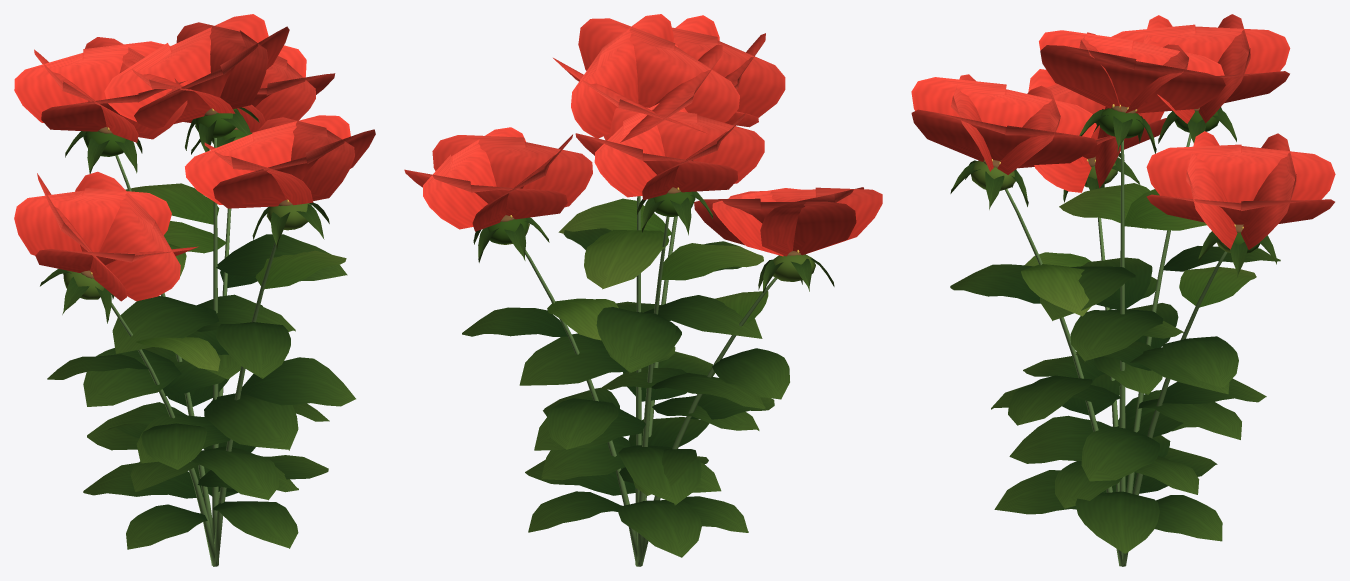
The model's file is poppy-09-lod.glb.
3 renders of one model, left to right at view 1: azimuth 30°, elevation 25°; view 2: azimuth 150°, elevation 25°; view 3: azimuth 270°, elevation 25°, orthographic.
Visible parts, largest first — view 1: poppy_stage_09_poppy_petal.017, poppy_stage_09_leaf_veins.017, poppy_stage_09_young_leaf.017, poppy_stage_09_stem_fibres.017; view 2: poppy_stage_09_poppy_petal.017, poppy_stage_09_leaf_veins.017, poppy_stage_09_young_leaf.017, poppy_stage_09_stem_fibres.017; view 3: poppy_stage_09_poppy_petal.017, poppy_stage_09_leaf_veins.017, poppy_stage_09_young_leaf.017, poppy_stage_09_stem_fibres.017.
Boxes of the visible parts, x1,y1,x2,y2 form: poppy_stage_09_poppy_petal.017: (14, 14, 375, 301); poppy_stage_09_leaf_veins.017: (40, 107, 355, 549); poppy_stage_09_young_leaf.017: (63, 108, 346, 371); poppy_stage_09_stem_fibres.017: (111, 138, 276, 566); poppy_stage_09_poppy_petal.017: (404, 14, 882, 256); poppy_stage_09_leaf_veins.017: (462, 191, 834, 557); poppy_stage_09_young_leaf.017: (487, 191, 815, 340); poppy_stage_09_stem_fibres.017: (525, 196, 776, 566); poppy_stage_09_poppy_petal.017: (911, 14, 1335, 249); poppy_stage_09_leaf_veins.017: (950, 107, 1280, 553); poppy_stage_09_young_leaf.017: (971, 108, 1259, 316); poppy_stage_09_stem_fibres.017: (1005, 133, 1227, 566).
Bounding box in the file's own units: 0.4728 × 0.6412 × 0.4628.
6 materials, 3 textured.
